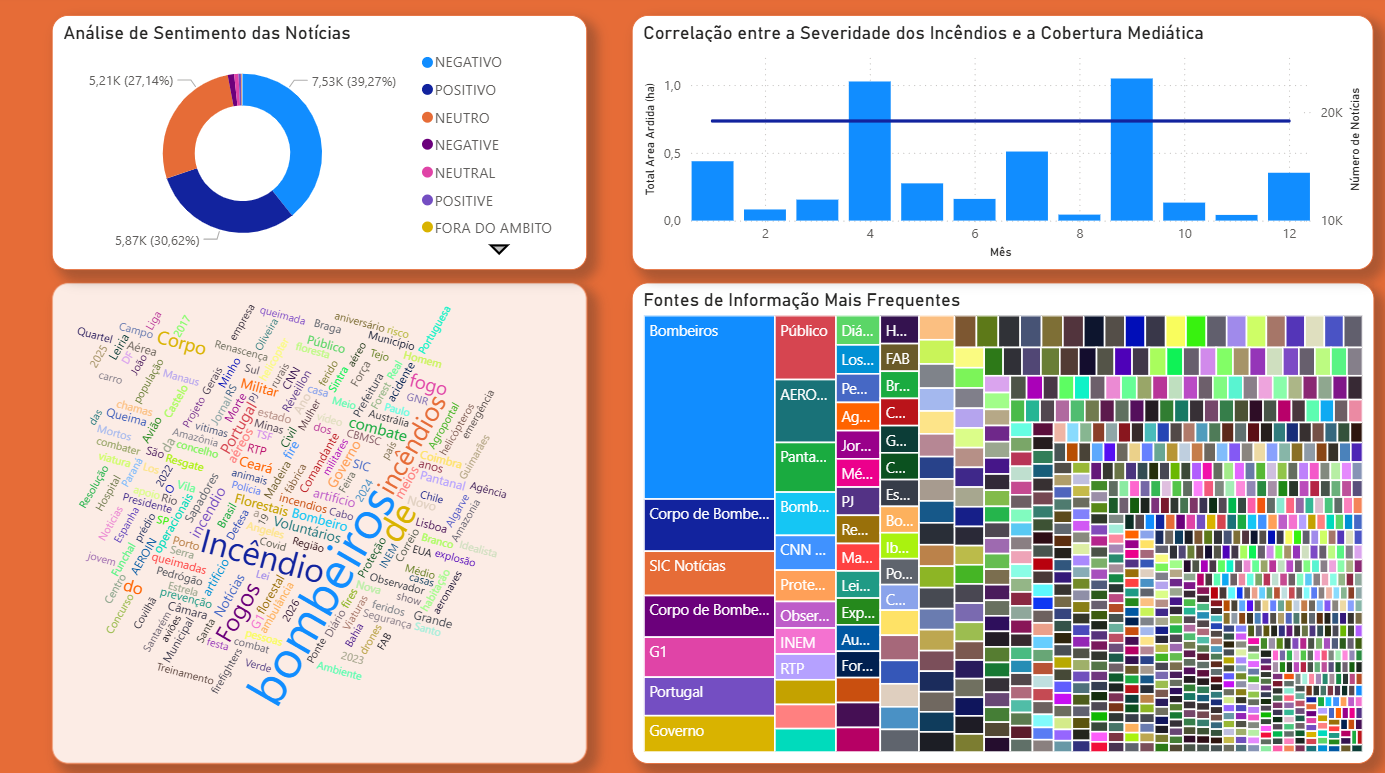

The dashboard page shown, as its layout file describes it:
{"tool":"powerbi","page":{"name":"Cobertura Mediatica","canvas":[1280,720],"ordinal":2},"visuals":[{"type":"WordCloud1447959067750","fields":{"Values":["CountNonNull(bridge_keywords.keywords)"],"Category":["bridge_keywords.keywords"]},"box":[49.6,264.8,492,442.5],"z":0},{"type":"treemap","title":"Fontes de Informação Mais Frequentes","fields":{"Values":["CountNonNull(bridge_entities.entities)"],"Group":["bridge_entities.entities"]},"box":[582.4,264.2,682.3,442.2],"z":1000},{"type":"donutChart","title":"Análise de Sentimento das Notícias","fields":{"Category":["dim_sentiment.sentiment"],"Y":["CountNonNull(fact_news.news_id)"]},"box":[49.6,18.1,492,234.5],"z":2000},{"type":"lineStackedColumnComboChart","title":"Correlação entre a Severidade dos Incêndios e a Cobertura Mediática","fields":{"Y":["fact_fire.Total Area Ardida (ha)"],"Y2":["CountNonNull(fact_news.news_id)"],"Category":["dim_day.month"]},"box":[582.7,18.1,681.8,234.5],"z":3000}]}

Visuals, with their boxes in screenshot pixels (x1, y1, x2, y2), scaled from the page's 1280x720 canvas onto the 1385x773 screenshot:
WordCloud1447959067750 - CountNonNull(bridge_keywords.keywords) x bridge_keywords.keywords: (54, 284, 586, 759)
"Fontes de Informação Mais Frequentes" treemap: (630, 284, 1368, 758)
"Análise de Sentimento das Notícias" donutChart: (54, 19, 586, 271)
"Correlação entre a Severidade dos Incêndios e a Cobertura Mediática" lineStackedColumnComboChart: (630, 19, 1368, 271)
